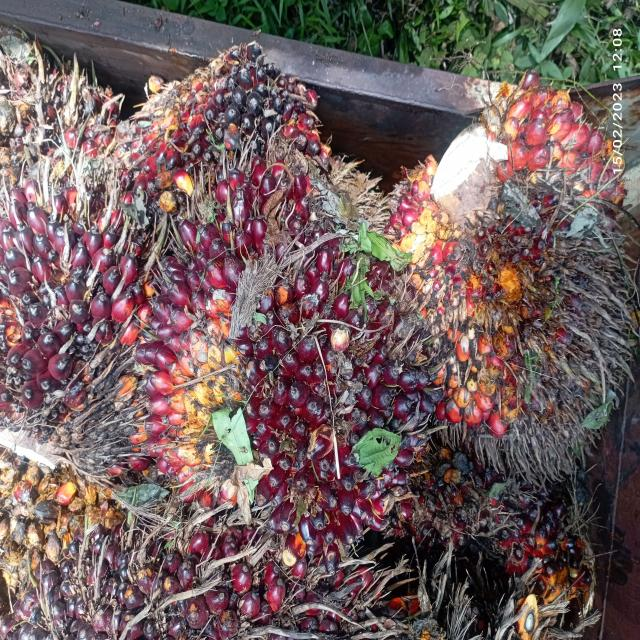fraksi 1: (120, 153, 415, 562), (0, 144, 209, 508)
fraksi 3: (368, 27, 620, 521)
